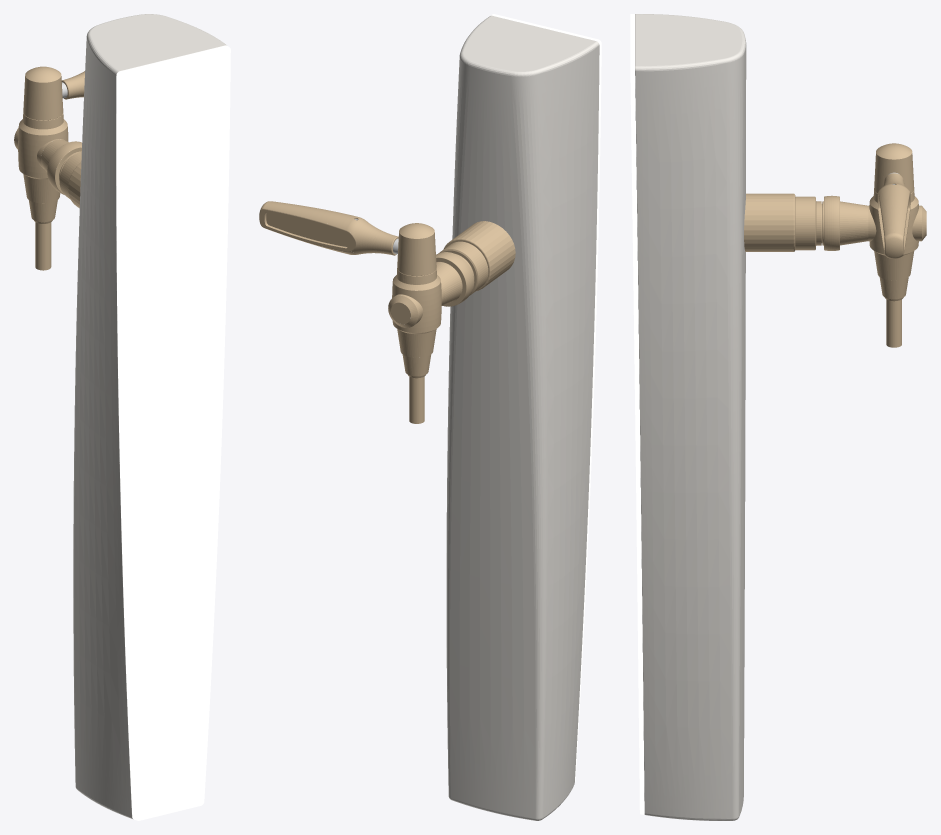
Rendered from glTF_INQUIETA_20190917.gltf.
3 renders of one model, left to right at view 1: azimuth 30°, elevation 25°; view 2: azimuth 150°, elevation 25°; view 3: azimuth 270°, elevation 25°, orthographic.
Visible parts, largest first — view 1: LIGHT, BACK, Grifo_007, Grifo, Plastico, Cilindro; view 2: BACK, Grifo_007, Plastico, Cilindro, LIGHT, Grifo; view 3: BACK, Grifo_007, LIGHT, Cilindro, Plastico, Grifo.
Part boxes in pixels (<box>): LIGHT: <box>116,45,230,820</box>; BACK: <box>73,14,226,818</box>; Grifo_007: <box>14,113,81,270</box>; Grifo: <box>23,66,63,120</box>; Plastico: <box>61,71,84,99</box>; Cilindro: <box>68,162,81,208</box>; BACK: <box>446,15,599,820</box>; Grifo_007: <box>388,241,488,423</box>; Plastico: <box>259,201,398,255</box>; Cilindro: <box>443,221,515,291</box>; LIGHT: <box>491,14,601,782</box>; Grifo: <box>397,223,436,276</box>; BACK: <box>635,14,746,820</box>; Grifo_007: <box>795,189,926,347</box>; LIGHT: <box>630,14,644,814</box>; Cilindro: <box>744,193,795,251</box>; Plastico: <box>877,173,910,258</box>; Grifo: <box>874,143,914,193</box>.
Size of what is drawn, in the model's own units: 156 by 530 by 188.
